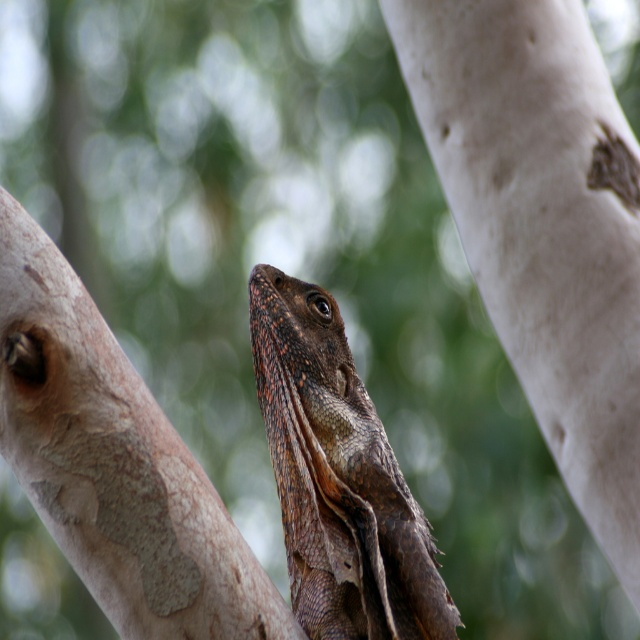Lizard: (243, 249, 449, 640)
